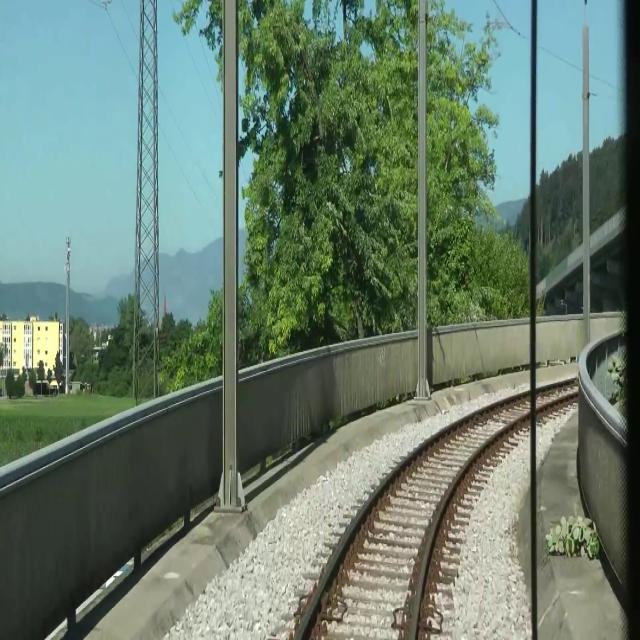rail-track: (300, 395, 530, 639), (538, 382, 577, 402)
